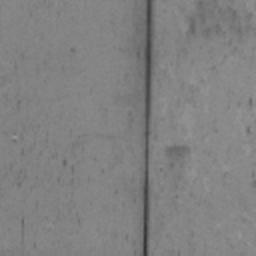Scratches: (143, 0, 152, 256)
